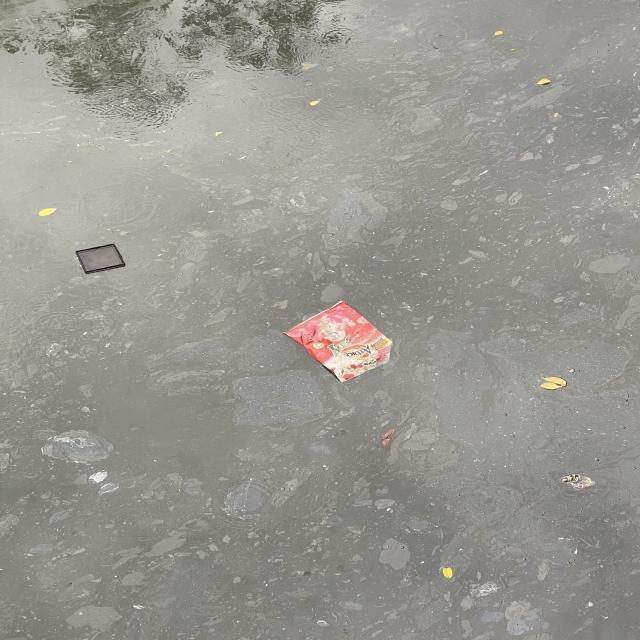Bungkus Makanan: (562, 473, 598, 491)
